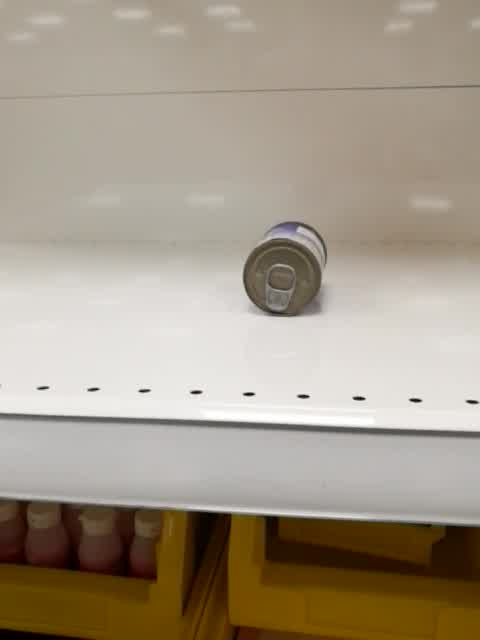sardine: (242, 219, 329, 318)
